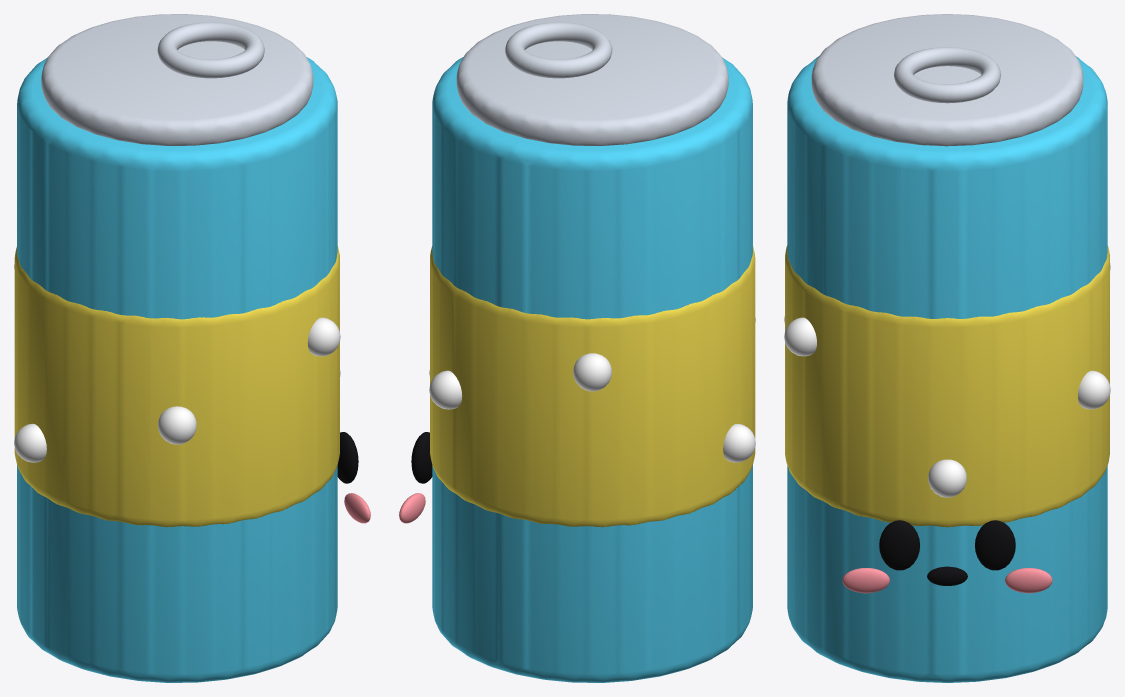
File: Soda.glb
The picture shows the model from 3 angles, left to right: view 1: azimuth 30°, elevation 25°; view 2: azimuth 150°, elevation 25°; view 3: azimuth 270°, elevation 25°; orthographic projection.
Parts seen in each view (by area): view 1: Cylinder, Cylinder.001, Cylinder.002, Torus, Sphere.004, Sphere.003, Sphere.005, Sphere.006, Sphere.007; view 2: Cylinder, Cylinder.001, Cylinder.002, Torus, Sphere.002, Sphere.003, Sphere.001, Sphere.008, Sphere.009; view 3: Cylinder, Cylinder.001, Cylinder.002, Torus, Sphere.006, Sphere.008, Sphere, Sphere.001, Sphere.005, Sphere.007, Sphere.009, Sphere.010.
Part boxes in pixels (x1,y1,x2,y2): Cylinder: (17,57,337,682); Cylinder.001: (14,246,339,527); Cylinder.002: (41,14,313,145); Torus: (157,22,264,78); Sphere.004: (158,406,196,444); Sphere.003: (14,423,46,462); Sphere.005: (307,317,340,356); Sphere.006: (337,432,358,483); Sphere.007: (344,493,370,523); Cylinder: (432,57,752,682); Cylinder.001: (430,246,755,527); Cylinder.002: (456,14,728,145); Torus: (505,22,612,78); Sphere.002: (573,353,611,391); Sphere.003: (723,423,755,462); Sphere.001: (429,370,462,409); Sphere.008: (411,432,432,483); Sphere.009: (399,493,425,523); Cylinder: (787,56,1107,682); Cylinder.001: (785,245,1109,527); Cylinder.002: (811,14,1083,146); Torus: (894,47,1000,103); Sphere.006: (879,520,919,570); Sphere.008: (975,520,1015,570); Sphere: (928,459,966,497); Sphere.001: (1078,370,1110,409); Sphere.005: (784,317,816,356); Sphere.007: (842,568,889,593); Sphere.009: (1005,568,1052,593); Sphere.010: (927,566,967,585).
Size of the model in its own units: 0.076 by 0.1289 by 0.0669.
